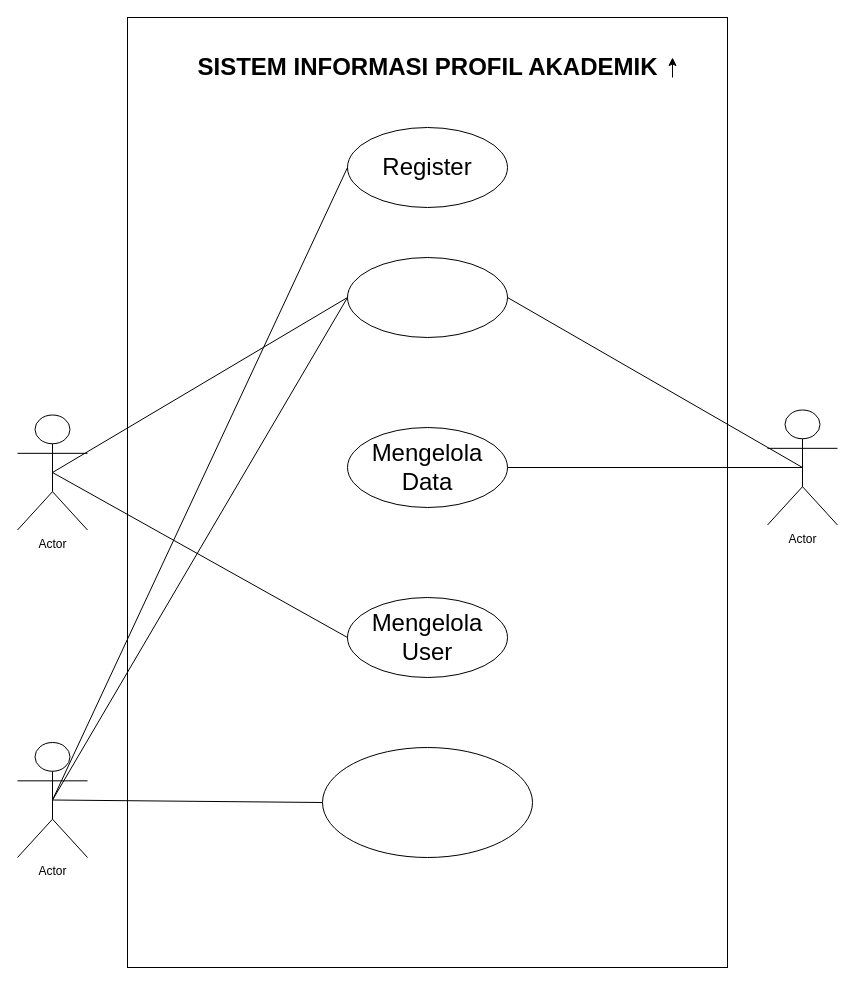
Some shapes in this 855 by 985 pixel diagram are drawn without their labels. Each missing label, with the centre of its shape:
"Login" belongs at (427,297).
"Mengirimkan Pesan ke Pihak Sekolah" belongs at (427,802).
